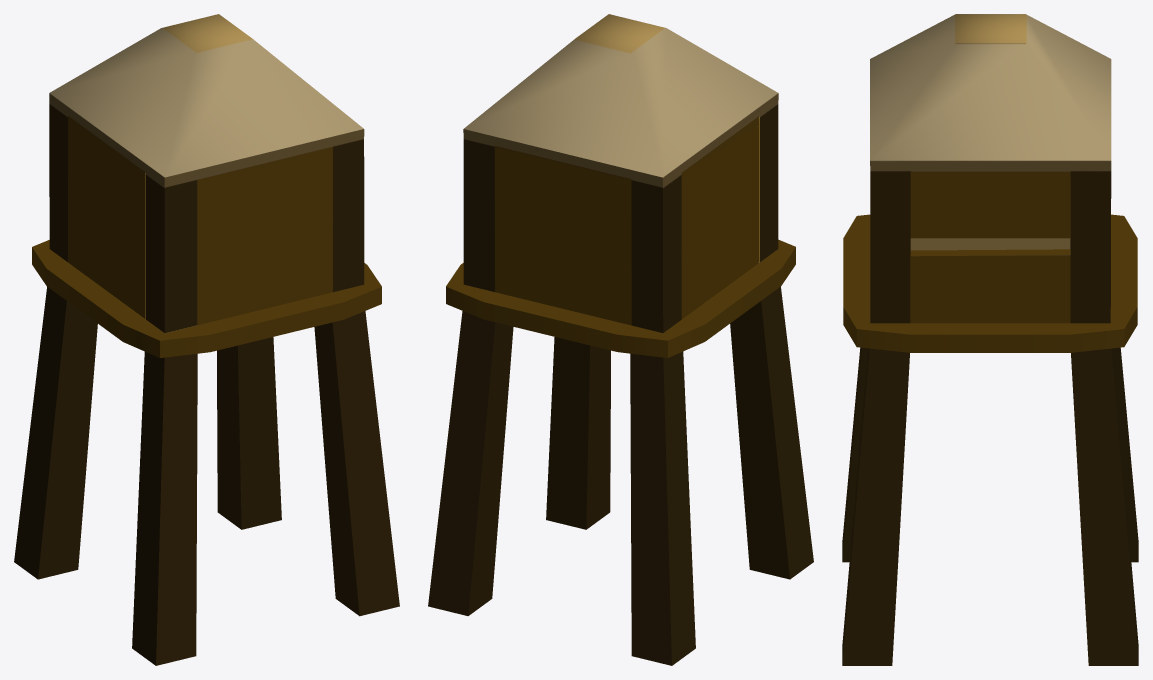
Rendered from Watchtower_Textured.fbx.
3 views of the same model, side by side, from view 1: azimuth 30°, elevation 25°; view 2: azimuth 150°, elevation 25°; view 3: azimuth 270°, elevation 25° (orthographic). The views are drawn at different scales.
Visible parts, largest first — view 1: pCube1; view 2: pCube1; view 3: pCube1.
Boxes of the visible parts, x1,y1,x2,y2 form: pCube1: (14, 14, 399, 665); pCube1: (428, 14, 813, 665); pCube1: (842, 14, 1138, 665).
Size of the model in its own units: 7.35 by 15.83 by 7.39.
Materials: 1 (1 with a texture image).
